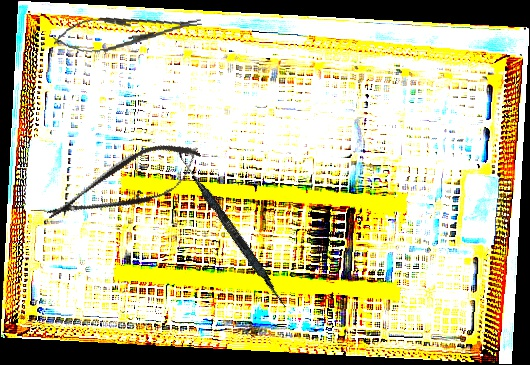Micro Scissor: (38, 130, 210, 240)
Needle Holder: (51, 5, 204, 59)
Spatula Surgical: (171, 149, 292, 310)
